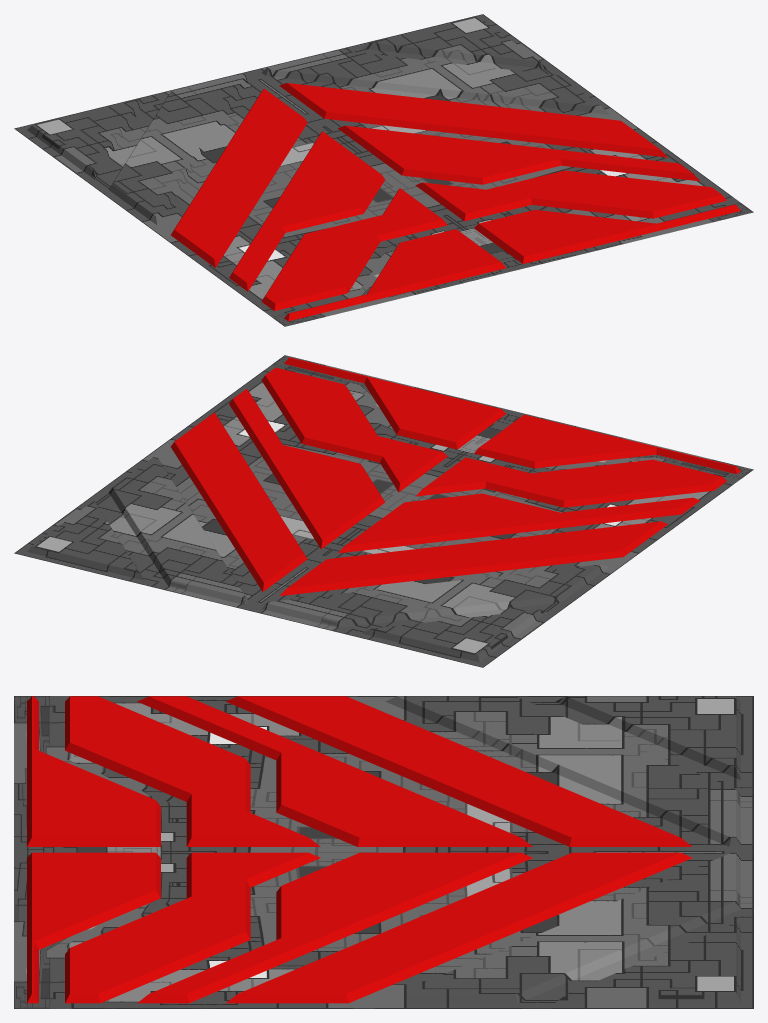
The model's file is turbo zone.fbx.
3 renders of one model, top to bottom at view 1: azimuth 30°, elevation 25°; view 2: azimuth 150°, elevation 25°; view 3: azimuth 270°, elevation 25°, orthographic. The views are drawn at different scales.
Parts seen in each view (by area): view 1: turbo zone; view 2: turbo zone; view 3: turbo zone.
Part boxes in pixels (<box>): turbo zone: <box>14,14,753,326</box>; turbo zone: <box>14,355,753,667</box>; turbo zone: <box>14,696,753,1008</box>.
Size of the model in its own units: 200 by 2.16 by 200.
